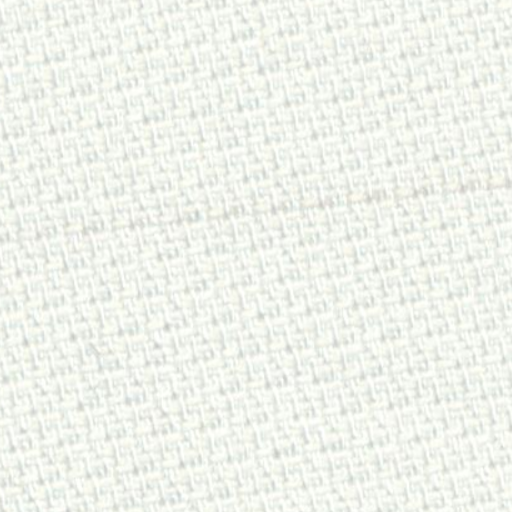WuZi: (156, 174, 504, 230)
